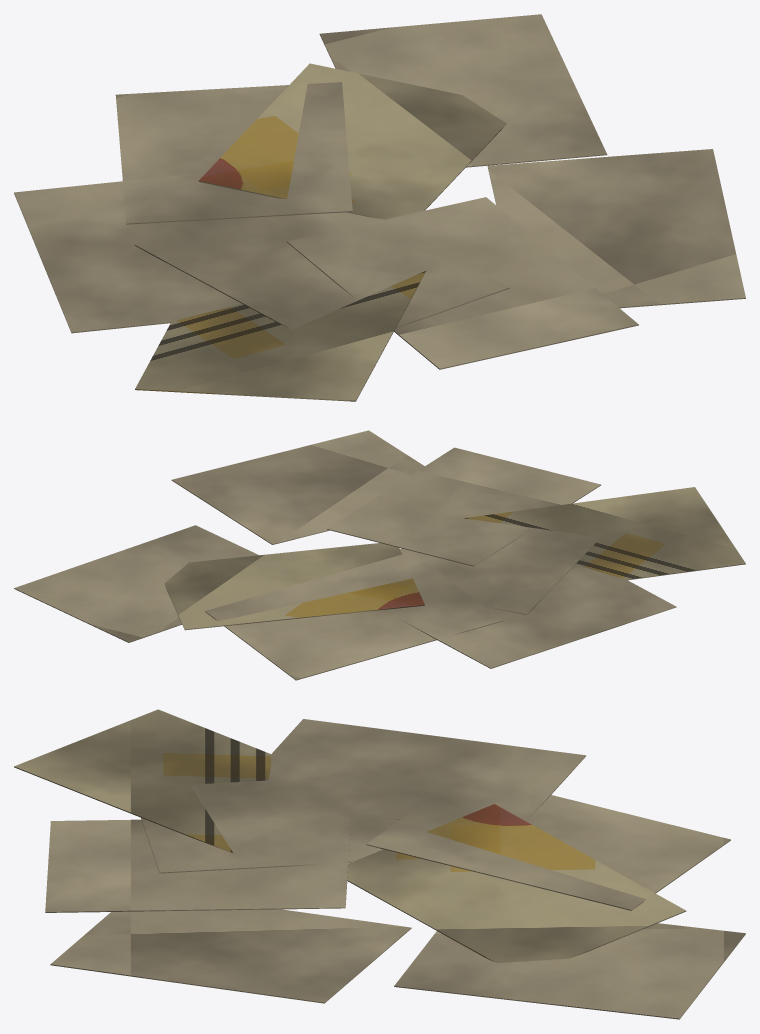
File: D01_scattered_papers_v1.glb
The picture shows the model from 3 angles, top to bottom: view 1: azimuth 30°, elevation 25°; view 2: azimuth 150°, elevation 25°; view 3: azimuth 270°, elevation 25°; orthographic projection. The views are drawn at different scales.
Visible parts, largest first — view 1: D01_scattered_papers_v1; view 2: D01_scattered_papers_v1; view 3: D01_scattered_papers_v1.
Boxes of the visible parts, x1=… form: D01_scattered_papers_v1: x1=14, y1=14, x2=745, y2=401; D01_scattered_papers_v1: x1=14, y1=430, x2=745, y2=680; D01_scattered_papers_v1: x1=14, y1=709, x2=745, y2=1019.
Size of the model in its own units: 0.5 by 0.0193 by 0.4937.
Materials: 2 (2 with a texture image).
